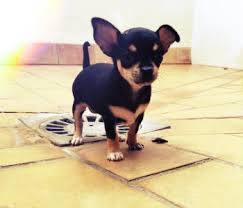chihuahua: (53, 9, 183, 167)
